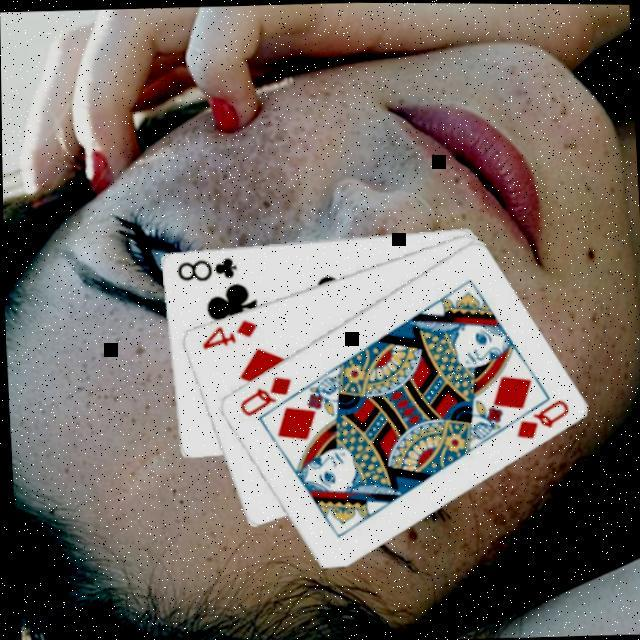4D: (195, 314, 258, 349)
8C: (170, 250, 237, 282)
QD: (508, 392, 571, 440), (232, 370, 293, 416)
